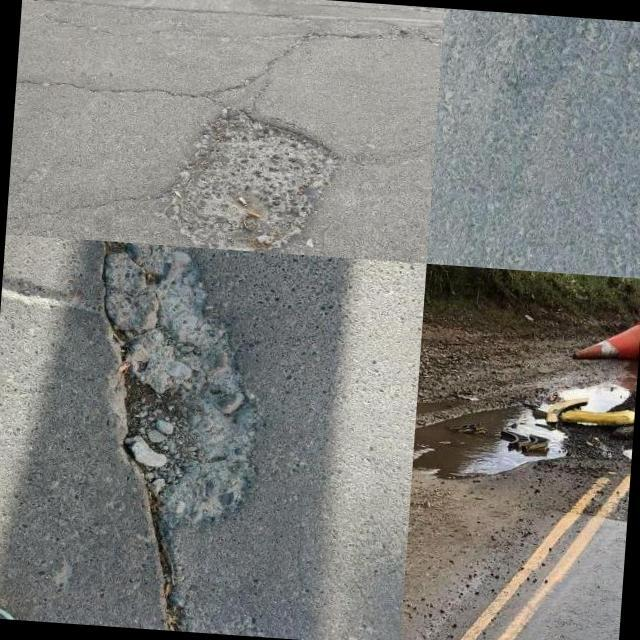Pothole: (100, 241, 266, 580), (176, 105, 340, 251)
